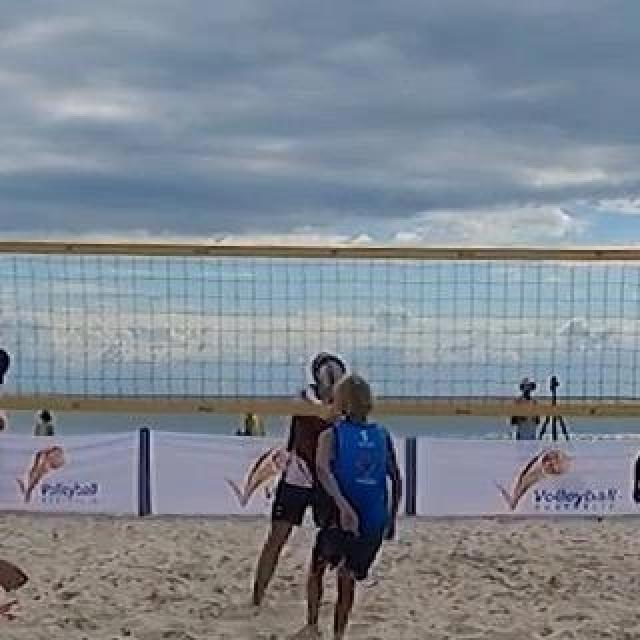volleyball: (313, 353, 347, 385)
